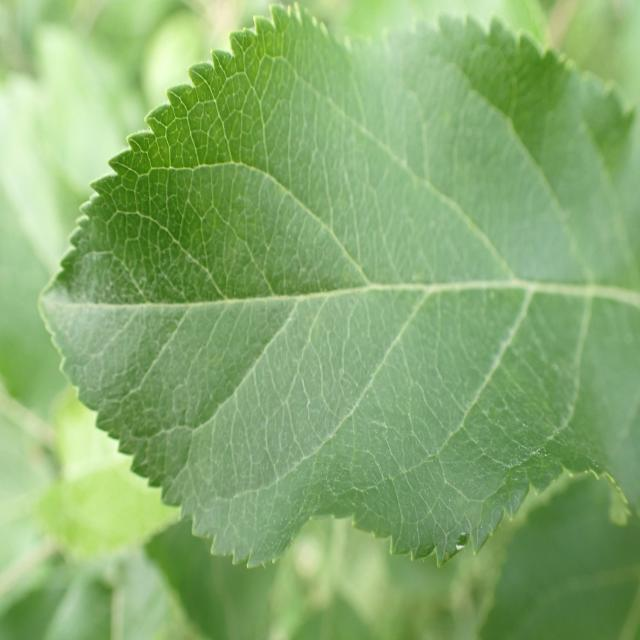healthy: (38, 1, 637, 569)
